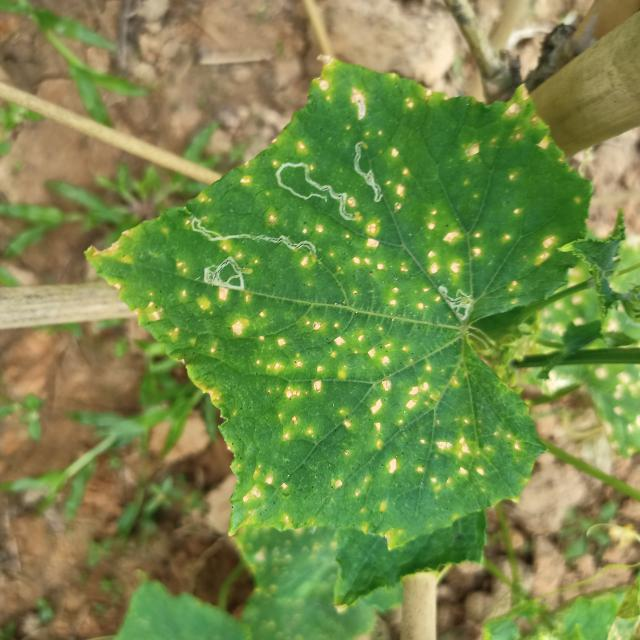disease_cucumber: (145, 61, 580, 314), (121, 289, 538, 536)
